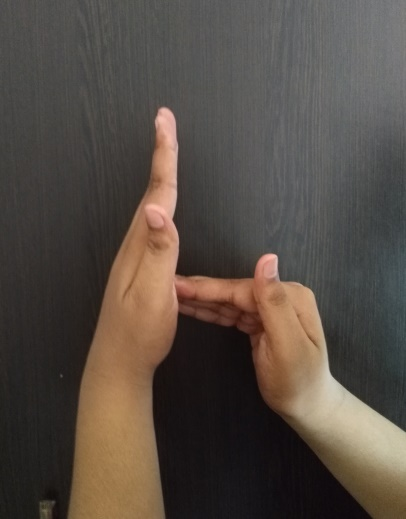ga: (99, 107, 329, 407)
